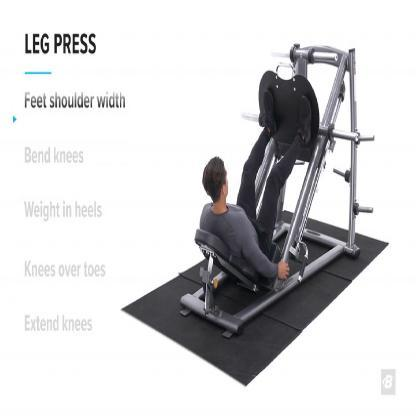leg press: (121, 31, 390, 393)
